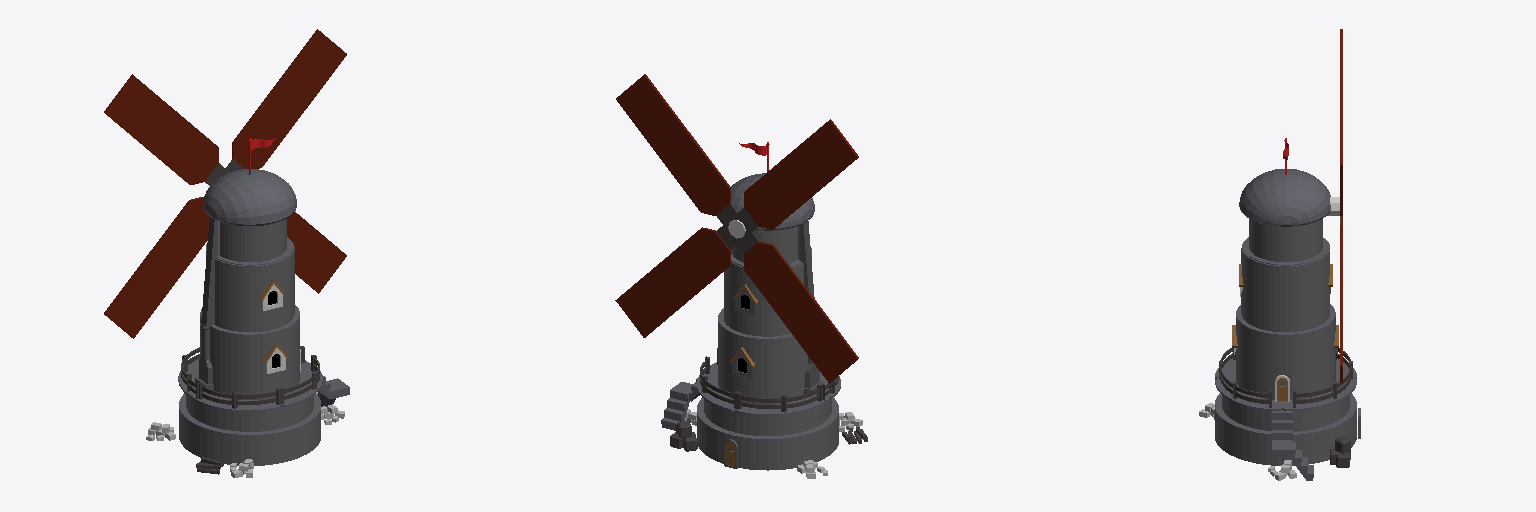
Rendered from mill.obj.
3 views of the same model, side by side, from view 1: azimuth 30°, elevation 25°; view 2: azimuth 150°, elevation 25°; view 3: azimuth 270°, elevation 25° (orthographic).
Size of the model in its own units: 4.17 by 5.97 by 2.41.